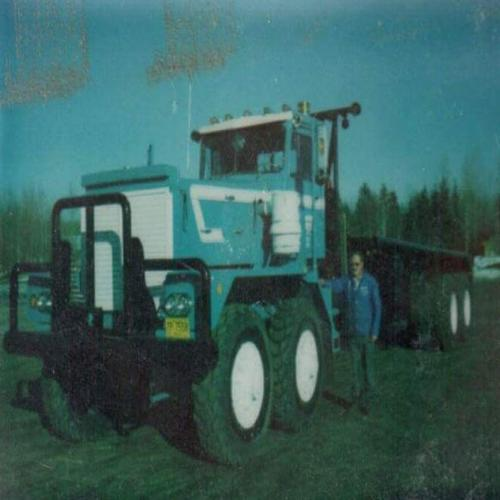con_eq: (36, 97, 474, 455)
